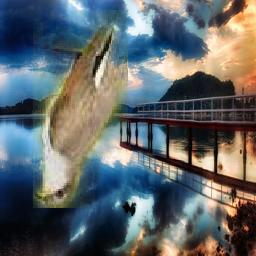Cuckoo: (34, 10, 129, 208)
